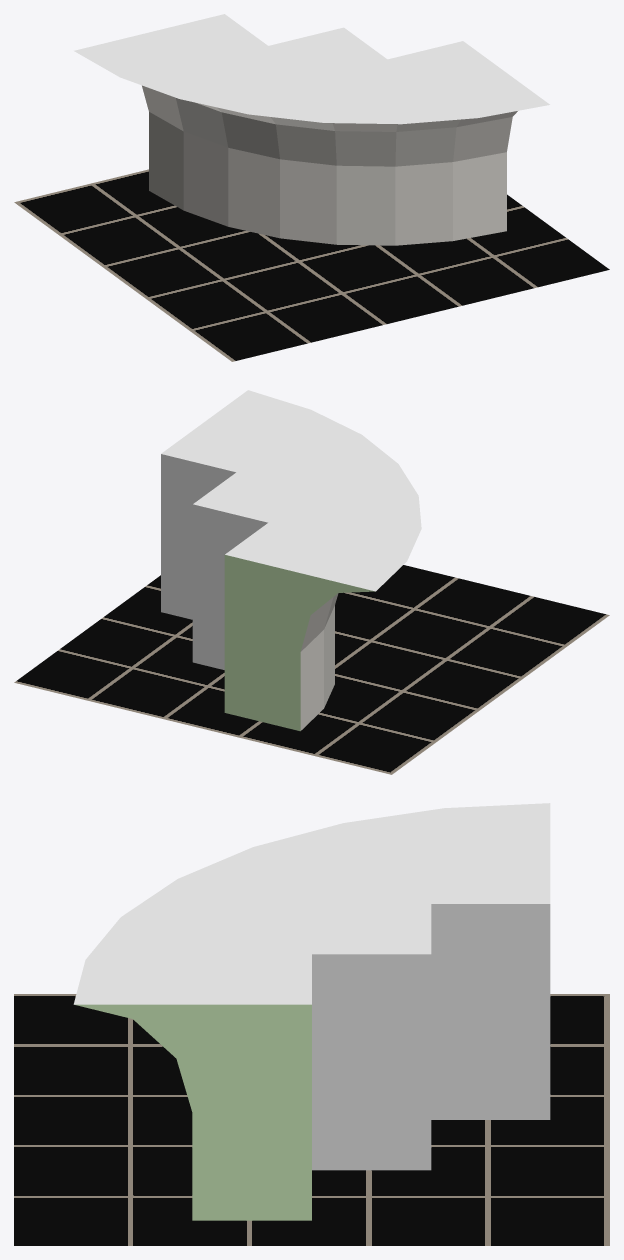
The model's file is Wall_Curve_Outer_4x4_Top.glb.
3 renders of one model, top to bottom at view 1: azimuth 30°, elevation 25°; view 2: azimuth 150°, elevation 25°; view 3: azimuth 270°, elevation 25°, orthographic. The views are drawn at different scales.
Parts seen in each view (by area): view 1: Wall_Curve_Outer_4x4_Top, Floor; view 2: Wall_Curve_Outer_4x4_Top, Floor; view 3: Wall_Curve_Outer_4x4_Top, Floor.
Boxes of the visible parts, x1=… form: Wall_Curve_Outer_4x4_Top: x1=74, y1=14, x2=549, y2=245; Floor: x1=14, y1=169, x2=609, y2=361; Wall_Curve_Outer_4x4_Top: x1=161, y1=390, x2=421, y2=731; Floor: x1=14, y1=565, x2=609, y2=774; Wall_Curve_Outer_4x4_Top: x1=73, y1=803, x2=550, y2=1220; Floor: x1=14, y1=994, x2=609, y2=1245.
Bounding box in the file's own units: 500 × 200 × 500.
5 materials, 1 textured.
